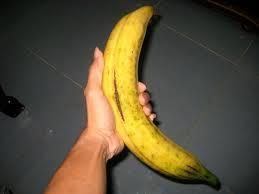banana: (64, 3, 230, 192)
